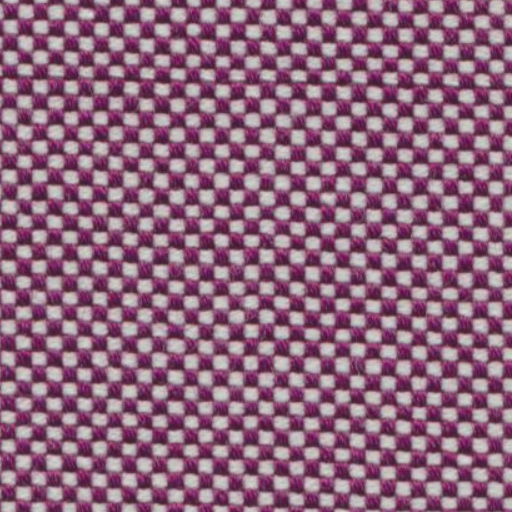TuoSha: (8, 38, 504, 114)
